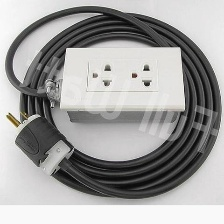three_eye_plug: (52, 33, 195, 133)
